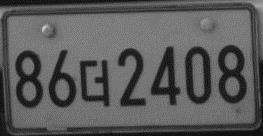0: (183, 45, 212, 105)
2: (115, 46, 148, 108)
4: (149, 45, 182, 106)
6: (47, 48, 78, 109)
8: (215, 44, 249, 104), (13, 48, 43, 108)
더: (78, 57, 112, 107)
